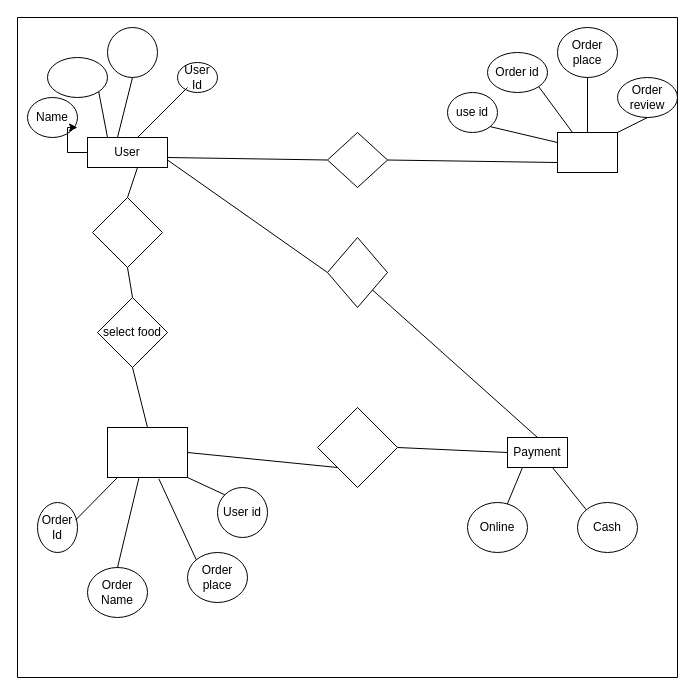
Image size: 695x695. Some labels were removed from this diagram. Here are the shapes that lost their labels. From the top down, the centre of each, then its label:
At (132,52): "Mobile no".
At (77,77): "Address".
At (357,160): "Has".
At (587,152): "Admin".
At (127,232): "Select Restrorant".
At (357,272): "Delivery Boy".
At (147,452): "Order".
At (357,447): "Delivery to customer".
